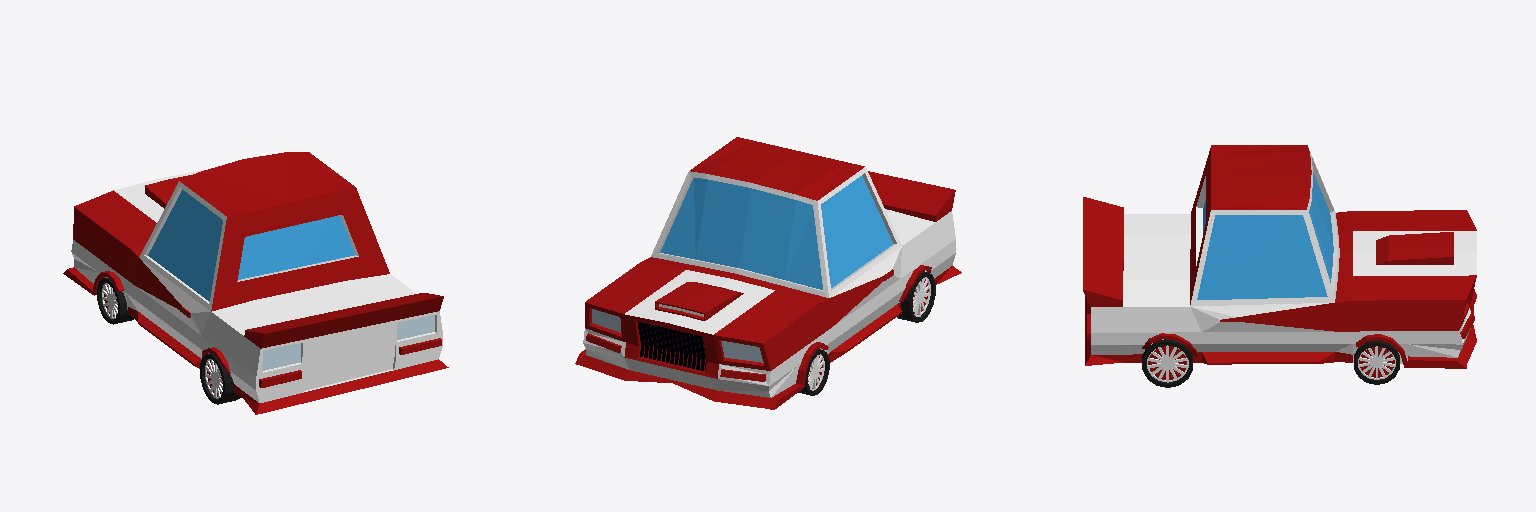
The model's file is car2.obj.
The picture shows the model from 3 angles: view 1: azimuth 30°, elevation 25°; view 2: azimuth 150°, elevation 25°; view 3: azimuth 270°, elevation 25°; orthographic projection.
Visible parts, largest first — view 1: body, body_1, backlight, wheel.1, wheel1.1; view 2: body, lattice.1, wheel.1, headlight_2, wheel1.1; view 3: body, wheel.1, wheel1.1.
Boxes of the visible parts, x1=… form: body: x1=63, y1=152, x2=448, y2=414; body_1: x1=256, y1=260, x2=345, y2=299; backlight: x1=263, y1=315, x2=434, y2=370; wheel.1: x1=200, y1=353, x2=240, y2=404; wheel1.1: x1=97, y1=278, x2=133, y2=324; body: x1=575, y1=137, x2=961, y2=409; lattice.1: x1=637, y1=321, x2=706, y2=371; wheel.1: x1=897, y1=271, x2=935, y2=322; headlight_2: x1=592, y1=309, x2=763, y2=362; wheel1.1: x1=798, y1=349, x2=829, y2=395; body: x1=1083, y1=145, x2=1476, y2=368; wheel.1: x1=1142, y1=339, x2=1192, y2=387; wheel1.1: x1=1354, y1=340, x2=1399, y2=384.
Bounding box in the file's own units: 2.07 × 1.68 × 3.56.